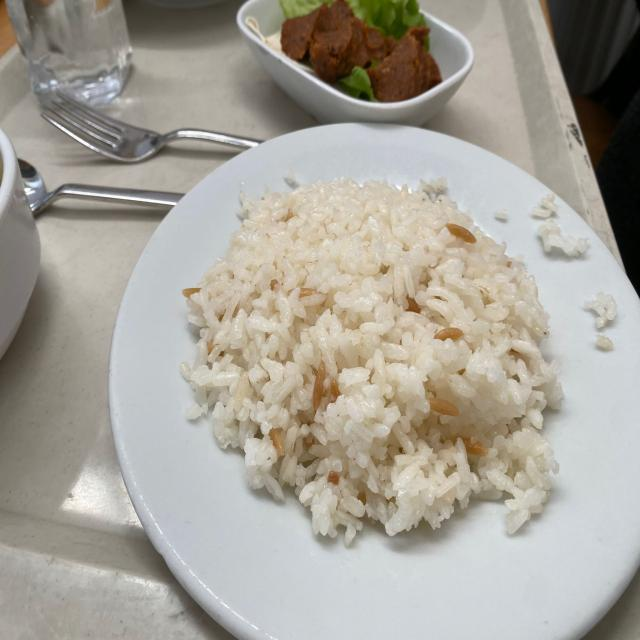ana_yemek: (113, 121, 631, 635)
corba: (1, 120, 42, 374)
yan_yemek: (243, 1, 468, 126), (130, 0, 249, 12)
